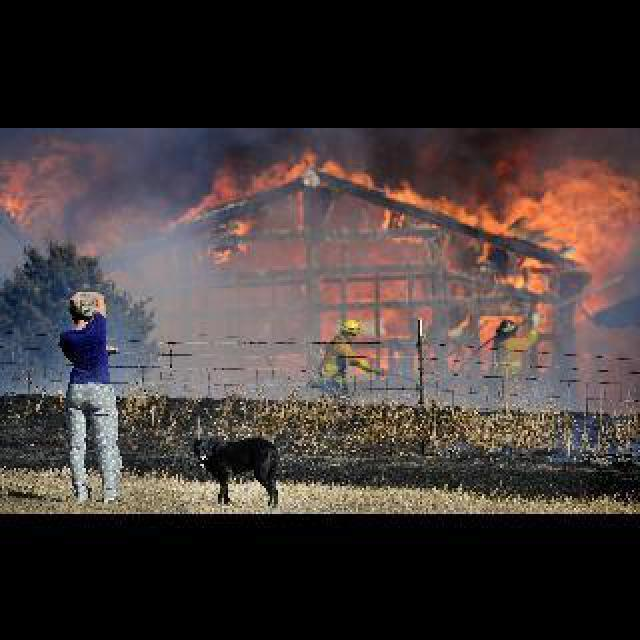Fire: (198, 134, 600, 320), (2, 154, 72, 220)
